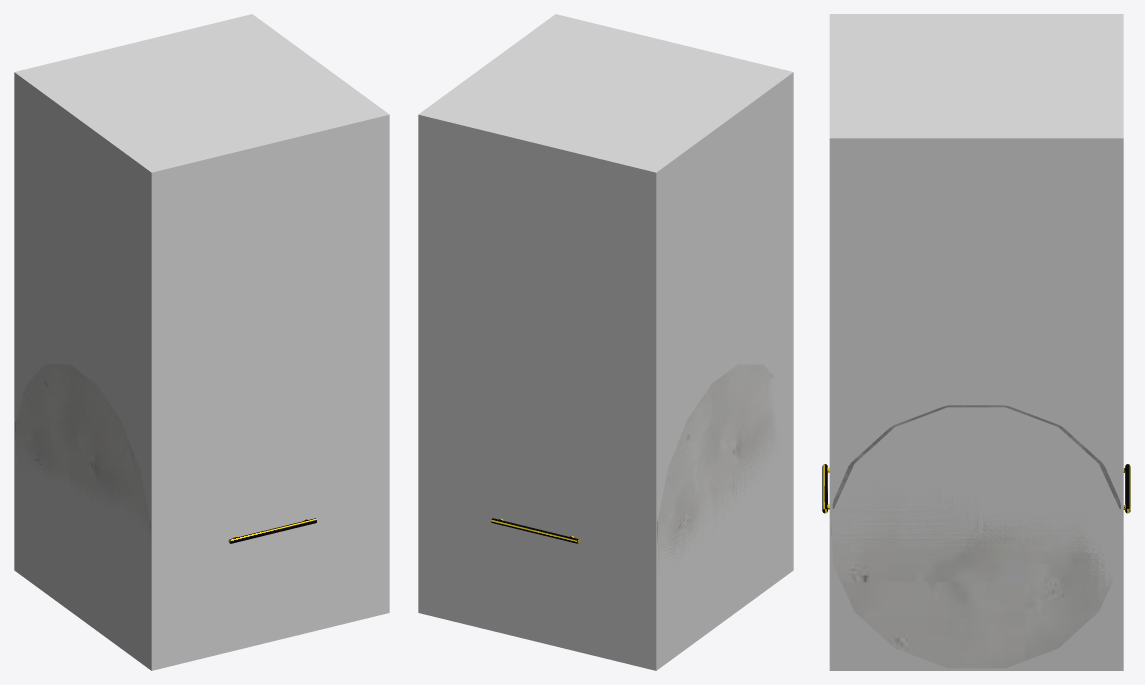
Rendered from Module-3-Centre-1.glb.
3 renders of one model, left to right at view 1: azimuth 30°, elevation 25°; view 2: azimuth 150°, elevation 25°; view 3: azimuth 270°, elevation 25°, orthographic. The views are drawn at different scales.
Visible parts, largest first — view 1: Cube.001, Cube, Hull; view 2: Cube.001, Cube, Hull; view 3: Cube.001, Cube, Hull, Cylinder.001.
Part boxes in pixels (x1,y1,x2,y2): Cube.001: [14, 14, 389, 421]; Cube: [14, 321, 389, 670]; Hull: [15, 364, 150, 541]; Cube.001: [418, 14, 793, 421]; Cube: [418, 321, 793, 670]; Hull: [657, 364, 784, 577]; Cube.001: [829, 14, 1123, 404]; Cube: [829, 404, 1123, 670]; Hull: [832, 472, 1114, 668]; Cylinder.001: [832, 405, 1120, 508].
Size of the model in its own units: 12 by 24 by 12.58.
Materials: 7 (5 with a texture image).
